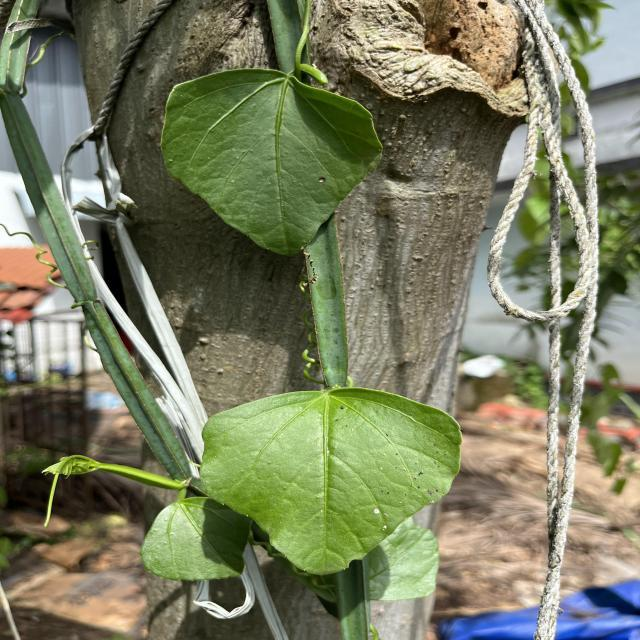Cissus quadrangularis: (196, 384, 465, 578), (156, 66, 384, 260)
